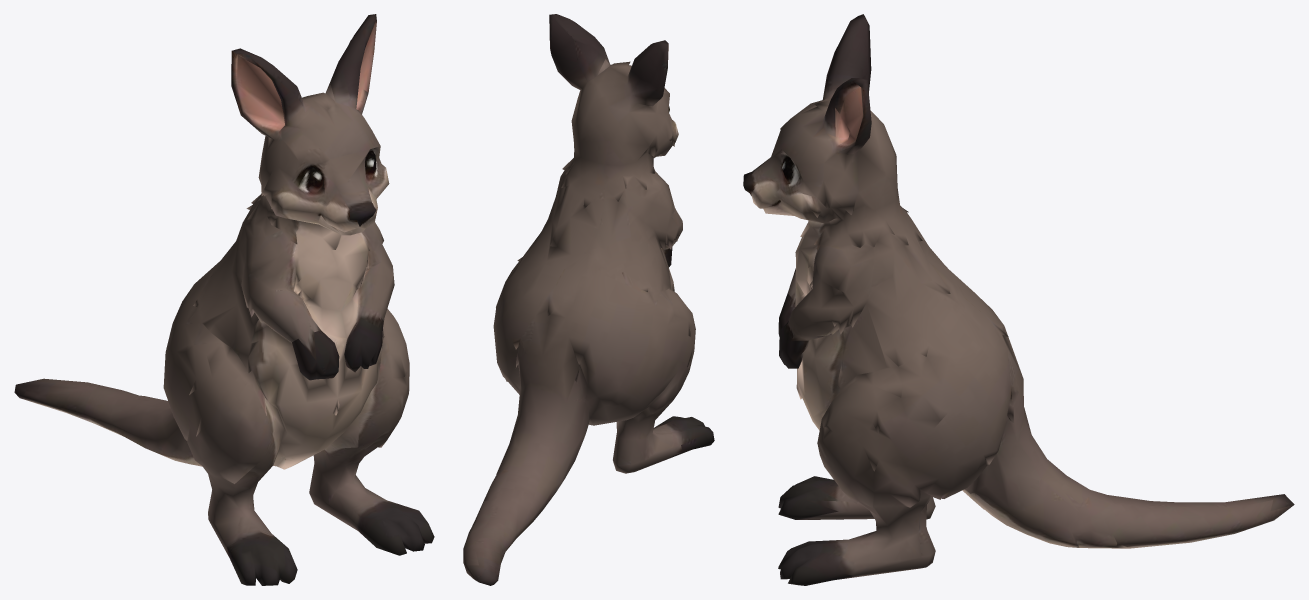
Rendered from wallaby.glb.
3 renders of one model, left to right at view 1: azimuth 30°, elevation 25°; view 2: azimuth 150°, elevation 25°; view 3: azimuth 270°, elevation 25°, orthographic. The views are drawn at different scales.
Parts seen in each view (by area): view 1: model; view 2: model; view 3: model.
Boxes of the visible parts, box(x1,y1,x2,y2) form: model: box(14, 14, 434, 585); model: box(463, 14, 714, 585); model: box(743, 14, 1294, 585).
Bounding box in the file's own units: 0.8379 × 1.9 × 1.9.
1 material, 1 textured.
